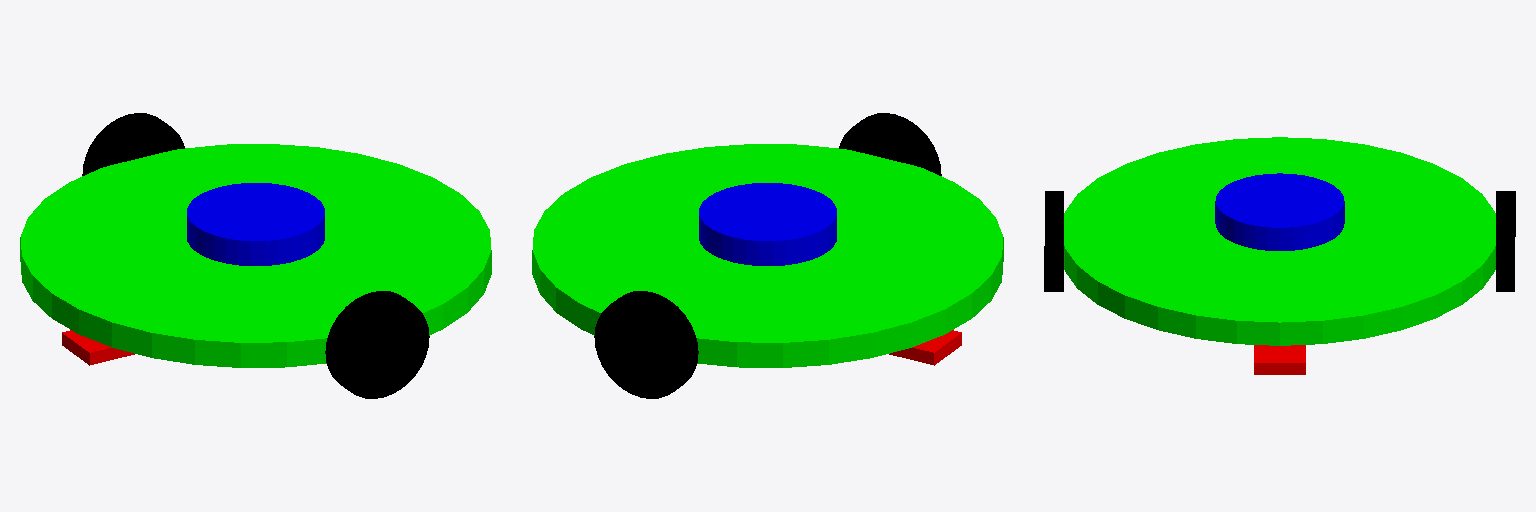
URDF robot description (robot_mobile):
<?xml version="1.0"?>
<robot name="robot_mobile">

  <!-- Materials -->
  <material name="black">
    <color rgba="0 0 0 1"/>
  </material>

  <material name="green">
    <color rgba="0 1 0 1"/>
  </material>


  <material name="blue">
    <color rgba="0 0 1 1"/>
  </material>

  <material name="red">
    <color rgba="1 0 0 1"/>
  </material>






  <!-- Root link -->
  <link name="base_footprint"/>

  <!-- Base link -->
  <link name="base_link_green">
    <visual>
      <geometry>
        <cylinder radius="0.17" length="0.02"/> 
  
      </geometry>
      <origin rpy="0 0 0" xyz="0 0 0"/>
      <material name="green"/>
    </visual>
  </link>



  <!-- Right wheel -->
  <link name="right_wheel_link">
    <visual>
      <geometry>
        <cylinder radius="0.039" length="0.015"/> 
      </geometry>
      <origin rpy="1.57 0 0" xyz="0 0 0"/>
      <material name="black"/>
    </visual>
  </link>

  
  <!-- Left wheel -->
  <link name="left_wheel_link">
    <visual>
      <geometry>
        <cylinder radius="0.039" length="0.015"/>
      </geometry>
      <origin rpy="1.57 0 0" xyz="0 0 0"/>
      <material name="black"/>
    </visual>
  </link>

    
  <!-- CIRCULO AZUL  -->
  <link name="blue_circle_link">
    <visual>
      <geometry>
        <cylinder radius="0.05" length="0.02"/>
      </geometry>
      <origin rpy="0 0 0" xyz="0 0 0"/>
      <material name="blue"/>
    </visual>
  </link>



  <!-- Cuadrado rojo derecha -->
  <link name="box_red_right_link">
    <visual>
      <geometry>
        <box size="0.04 0.04 0.01"/>
      </geometry>
      <origin xyz="0 0 0" rpy="0 0 0"/>
      <material name="red"/>
    </visual>
  </link>



  <!-- Cuadrado rojo izquierda -->
  <link name="box_red_left_link">
    <visual>
      <geometry>
        <box size="0.04 0.04 0.01"/>
      </geometry>
      <origin xyz="0 0 0" rpy="0 0 0"/>
      <material name="red"/>
    </visual>
  </link>




  <!-- Base footprint to base link -->
  <joint name="base_footprint_to_base_link_joint" type="fixed">
    <parent link="base_footprint"/>
    <child link="base_link_green"/>
    <origin rpy="0 0 0" xyz="0 0 0.05"/>
  </joint>

  <!-- Right wheel joint -->
  <joint name="base_link_to_right_wheel_link_joint" type="continuous">
    <parent link="base_link_green"/>
    <child link="right_wheel_link"/>
    <origin rpy="0 0 0" xyz="0 -0.175 0"/>
    <axis xyz="0 1 0"/>
  </joint>

  <!-- Left wheel joint -->
  <joint name="base_link_to_left_wheel_link_joint" type="continuous">
    <parent link="base_link_green"/>
    <child link="left_wheel_link"/>
    <origin rpy="0 0 0" xyz="0 0.175 0"/>
    <axis xyz="0 1 0"/>
  </joint>


  <!-- Blue circle joint -->
  <joint name="base_link_to_blue_circle_link_joint" type="fixed">
    <parent link="base_link_green"/>
    <child link="blue_circle_link"/>
    <origin rpy="0 0 0" xyz="0 0 0.025"/>
  </joint>


  <!-- Red box right joint -->
  <joint name="base_link_to_box_red_right_link_joint" type="fixed">
    <parent link="base_link_green"/>
    <child link="box_red_right_link"/>
    <origin rpy="0 0 0" xyz="0.13  0 -0.039 "/>    
  </joint>


  <!-- Red box left joint -->
  <joint name="base_link_to_box_red_left_link_joint" type="fixed">
    <parent link="base_link_green"/>
    <child link="box_red_left_link"/>
    <origin rpy="0 0 0" xyz="-0.13  0 -0.039 "/>    
  </joint>

</robot>


<!-- 
  <link name="base_link">
    <visual>
      <geometry>
        <cylinder length="0.01" radius="0.2"/>
      </geometry>
      <origin rpy="0 0 0" xyz="0 0 0"/>
      <material name="green" />
    </visual>
  </link>

  <joint name="pan_joint" type="revolute">
    <parent link="base_link"/>
    <child link="pan_link"/>
    <origin xyz="0 0 0"/>
    <axis xyz="0 0 1" />
    <limit effort="300" velocity="0.1" lower="-3.1" upper="3.1"/>
  </joint>

  <link name="pan_link">
    <visual>
      <geometry>
        <cylinder length="0.4" radius="0.04"/>
      </geometry>
      <origin rpy="0 0 0" xyz="0 0 0.2"/>
      <material name="blue" />
    </visual>
  </link>

  <joint name="tilt_joint" type="revolute">
    <parent link="pan_link"/>
    <child link="tilt_link"/>
    <origin xyz="0 0 0.4"/>
    <axis xyz="0 1 0" />
    <limit effort="300" velocity="0.1" lower="-0.85" upper="0.85"/>
  </joint>

  <link name="tilt_link">
    <visual>
      <geometry>
        <cylinder length="0.4" radius="0.04"/>
      </geometry>
      <origin rpy="0 1.57 0" xyz="0 0 0"/>
      <material name="red" />
    </visual>
  </link>

</robot>
 -->

--- Render facts (derived) ---
3 views of the same robot in one strip: view 1: azimuth 30°, elevation 25°; view 2: azimuth 150°, elevation 25°; view 3: azimuth 270°, elevation 25° (orthographic).
Robot: robot_mobile — 7 links, 6 joints (2 continuous, 4 fixed); root link base_footprint; default pose: every joint at zero.
Visible links, largest first — view 1: base_link_green, blue_circle_link, right_wheel_link, left_wheel_link, box_red_left_link; view 2: base_link_green, blue_circle_link, left_wheel_link, right_wheel_link, box_red_left_link; view 3: base_link_green, blue_circle_link, right_wheel_link, left_wheel_link, box_red_right_link.
Link boxes in pixels (<box>): base_link_green: <box>20,144,491,367</box>; blue_circle_link: <box>187,183,324,265</box>; right_wheel_link: <box>325,291,429,398</box>; left_wheel_link: <box>82,113,184,175</box>; box_red_left_link: <box>62,330,134,365</box>; base_link_green: <box>532,144,1003,367</box>; blue_circle_link: <box>699,183,836,265</box>; left_wheel_link: <box>594,291,698,398</box>; right_wheel_link: <box>839,113,941,175</box>; box_red_left_link: <box>889,330,961,365</box>; base_link_green: <box>1064,137,1495,345</box>; blue_circle_link: <box>1215,173,1344,250</box>; right_wheel_link: <box>1044,191,1063,291</box>; left_wheel_link: <box>1496,191,1515,291</box>; box_red_right_link: <box>1254,345,1305,374</box>.
Bounding box of the posed robot: 0.34 × 0.3651 × 0.083 m (x, y, z).
Geometry: primitives only (box / cylinder / sphere), no mesh files.
